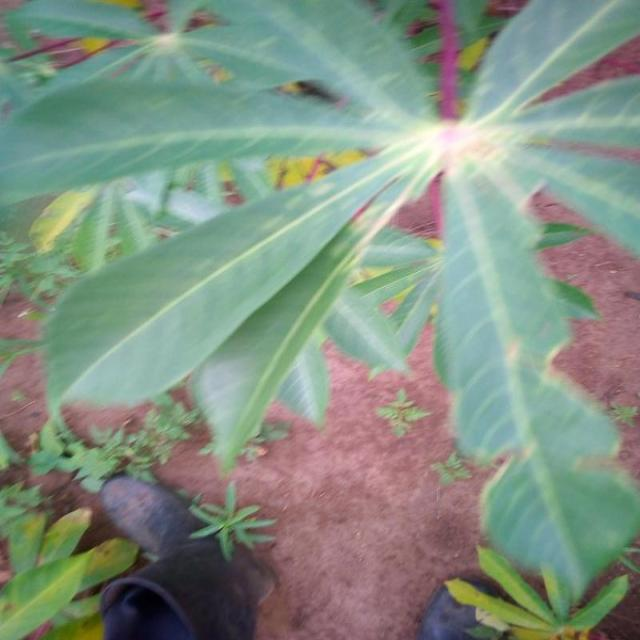cassava leaf: (3, 0, 637, 614)
